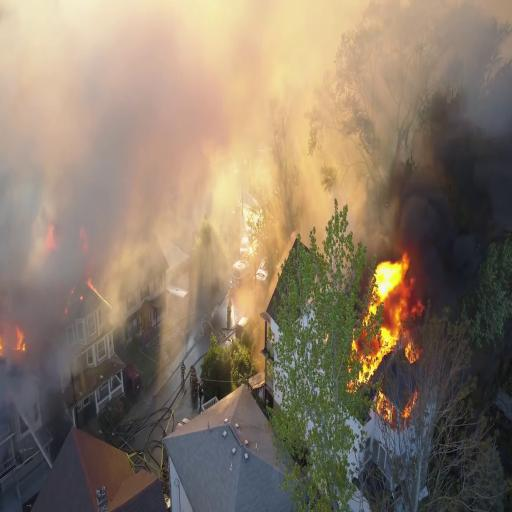fire: (352, 255, 425, 388)
smoke: (403, 109, 512, 293)
